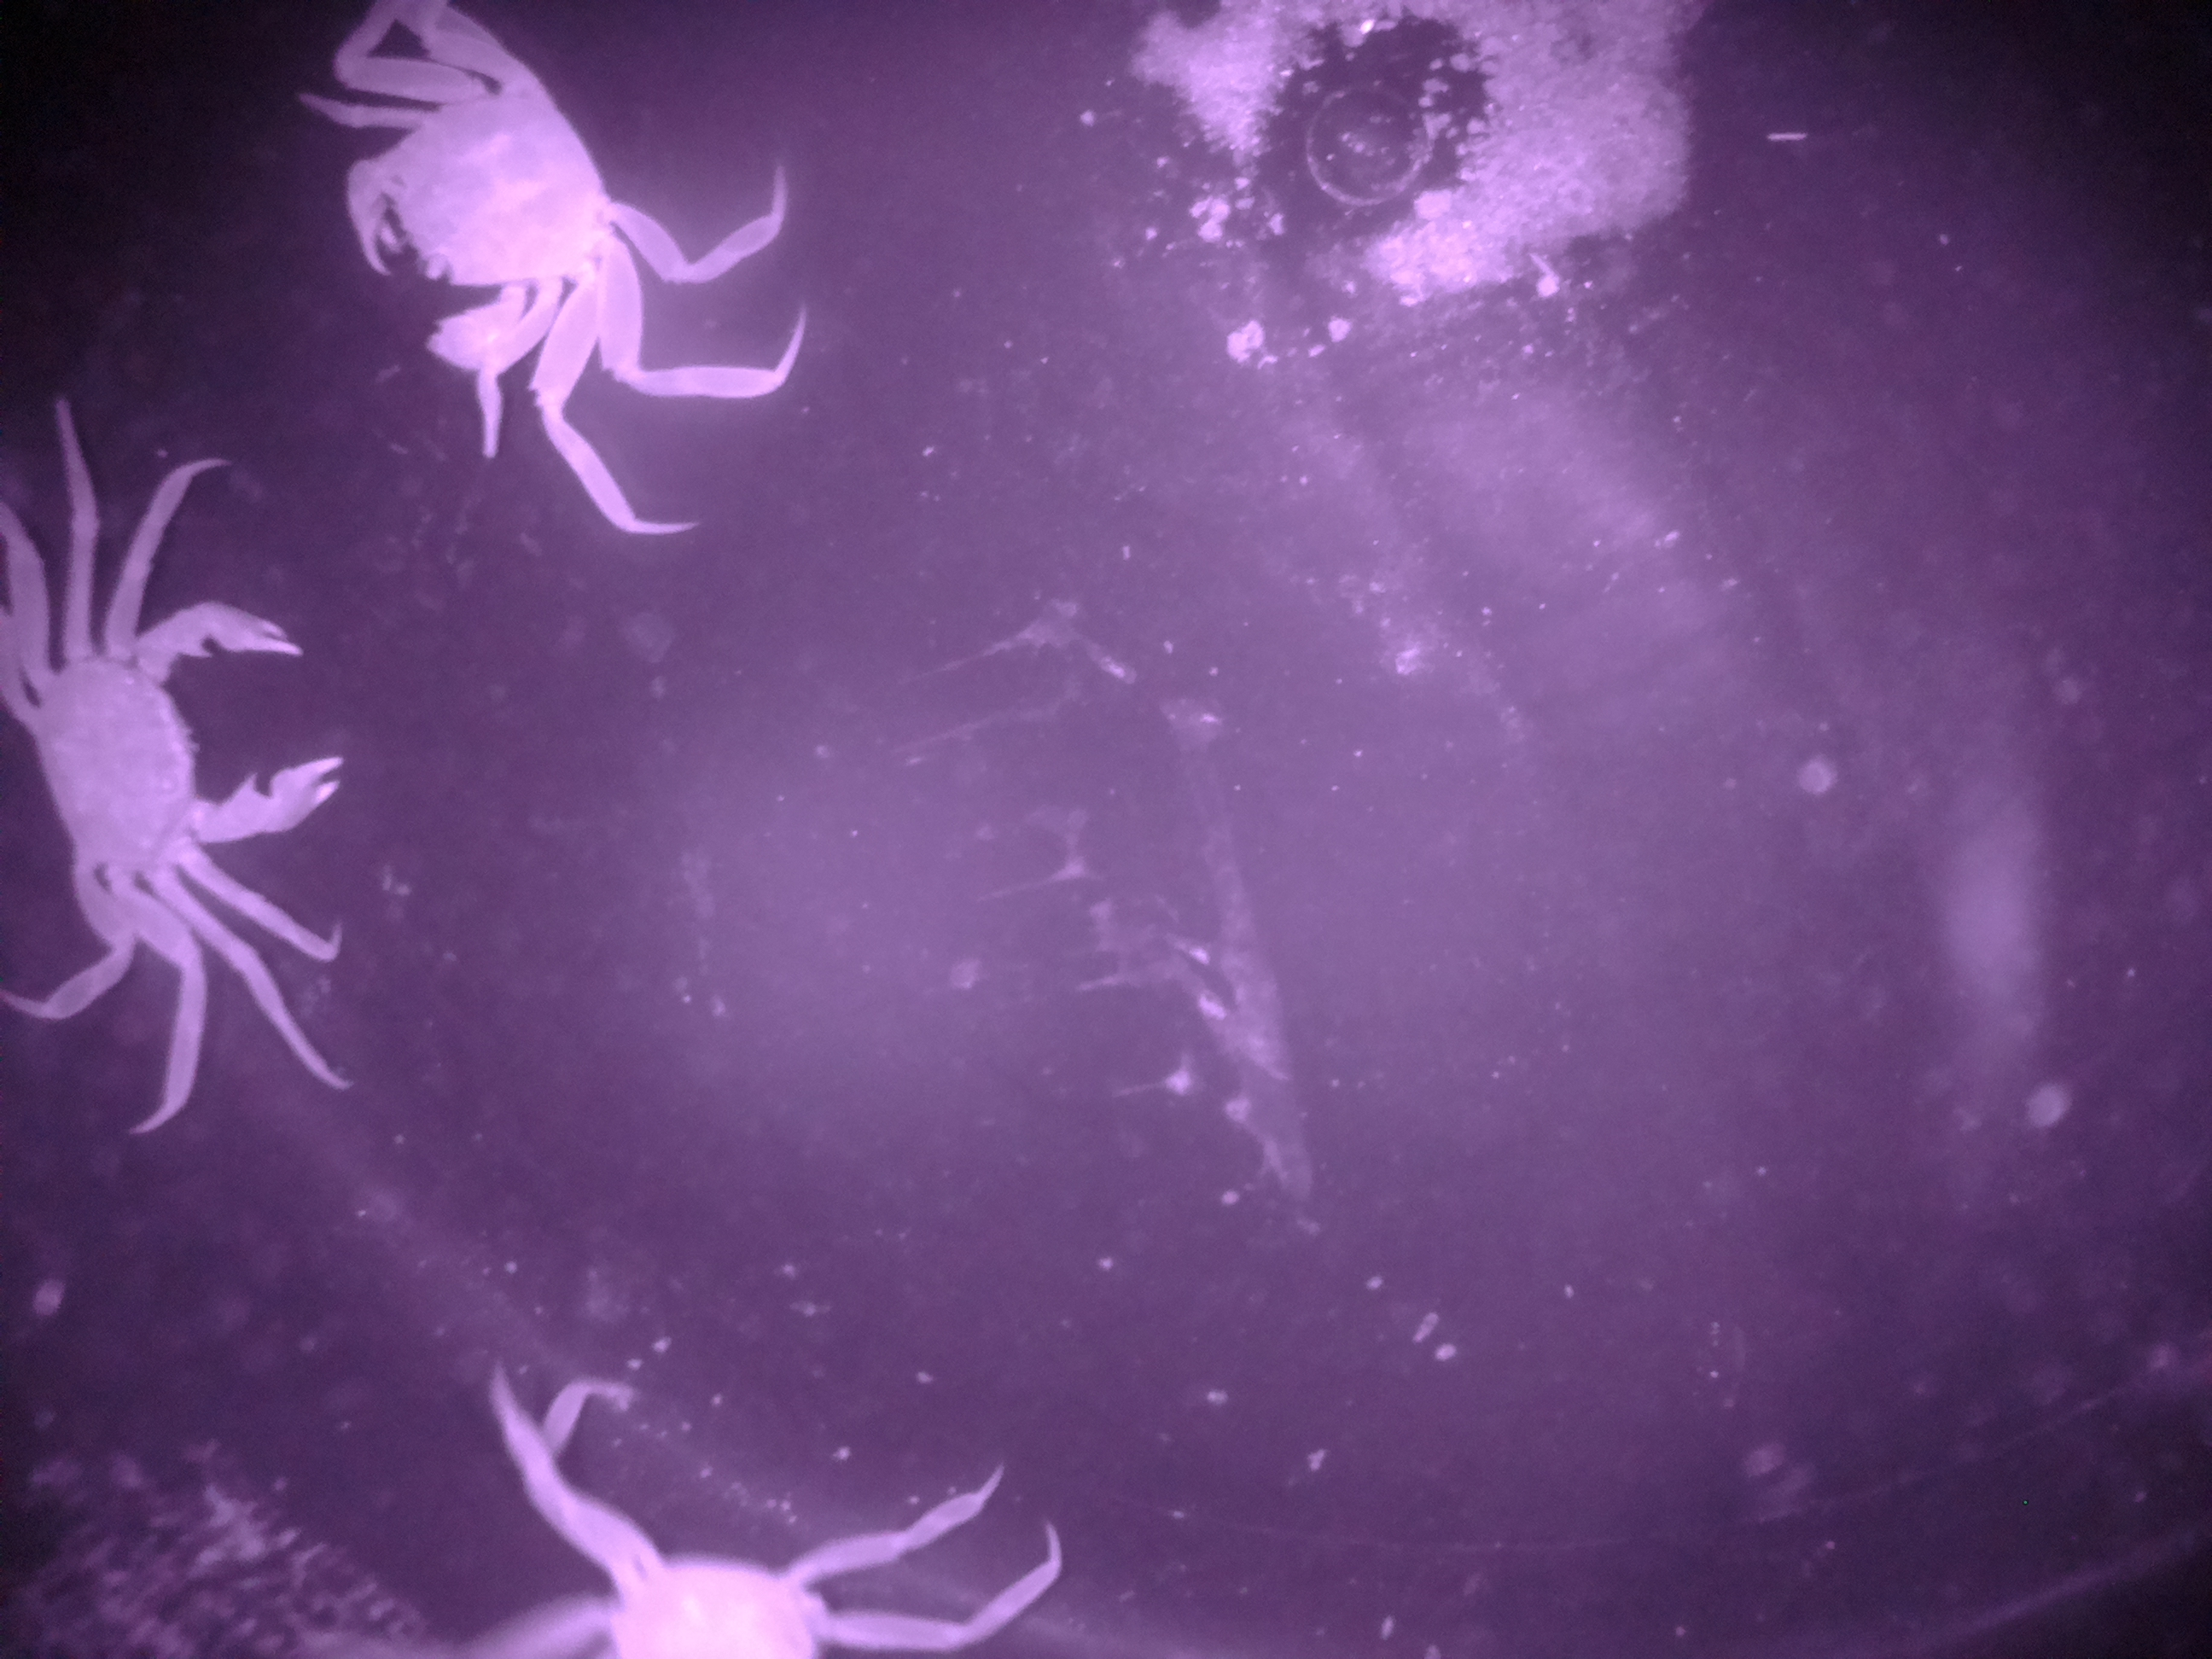Crab: (284, 3, 733, 415), (0, 537, 388, 948)
